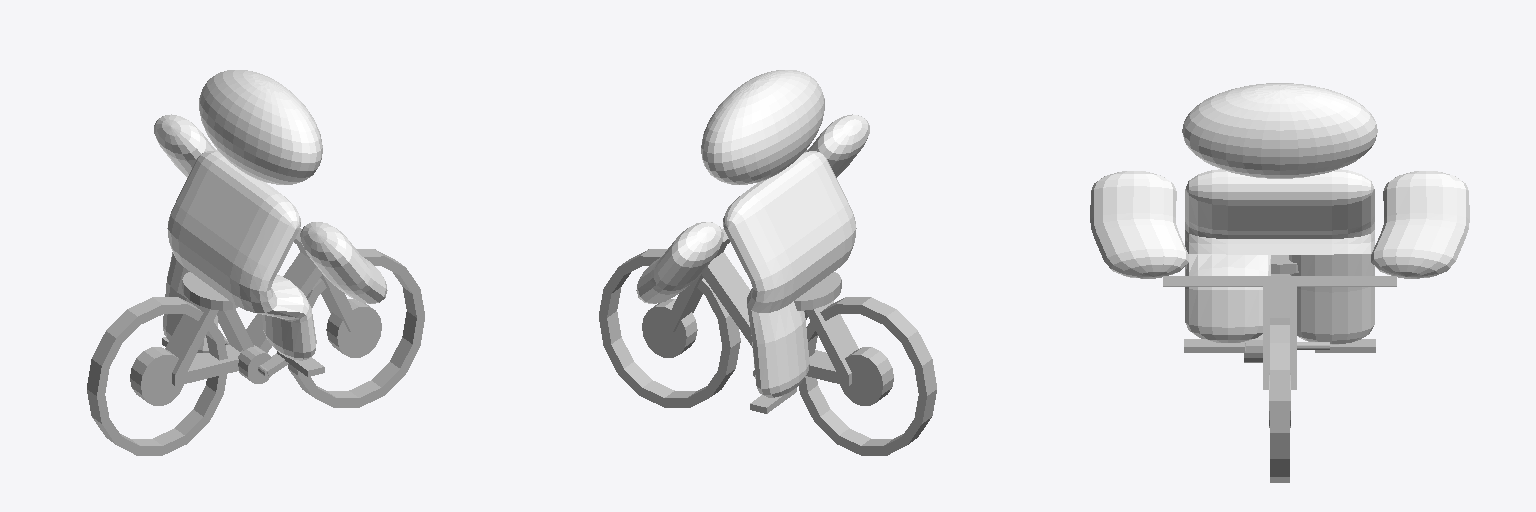
3 views of the same model, side by side, from view 1: azimuth 30°, elevation 25°; view 2: azimuth 150°, elevation 25°; view 3: azimuth 270°, elevation 25° (orthographic).
Parts seen in each view (by area): view 1: bike_球体.004; view 2: bike_球体.004; view 3: bike_球体.004.
Boxes of the visible parts, x1,y1,x2,y2 form: bike_球体.004: [87, 70, 424, 455]; bike_球体.004: [599, 70, 936, 455]; bike_球体.004: [1090, 83, 1469, 482].
Bounding box in the file's own units: 1 × 1 × 1.